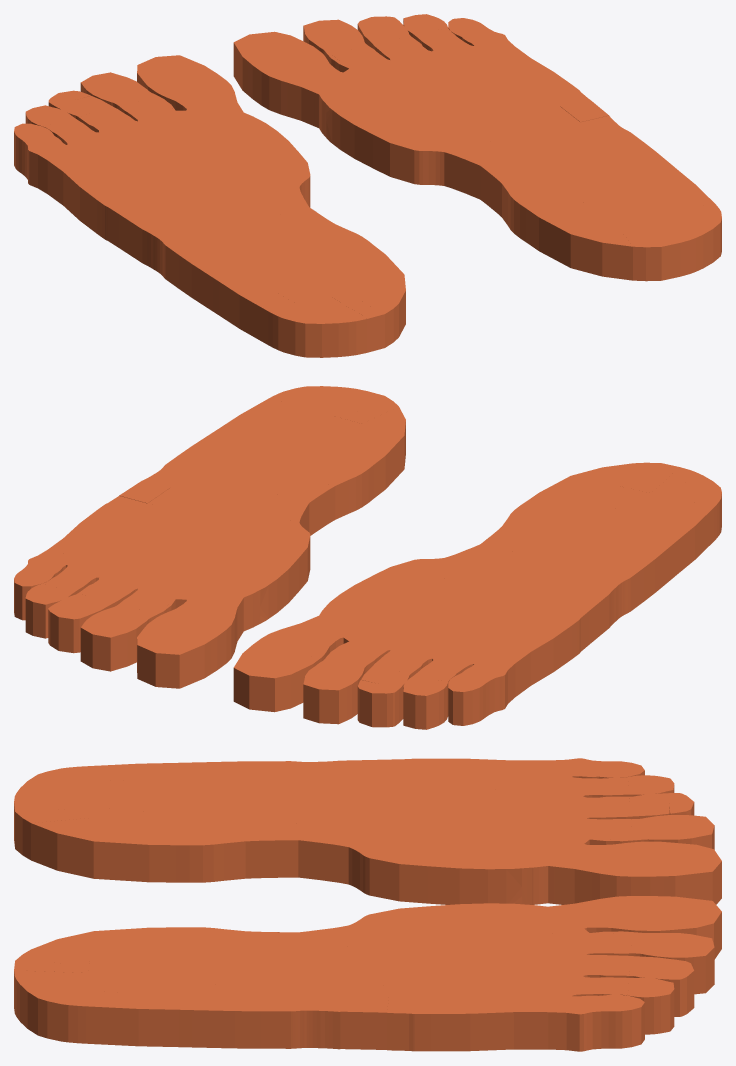
File: Pie.glb
The picture shows the model from 3 angles, top to bottom: view 1: azimuth 30°, elevation 25°; view 2: azimuth 150°, elevation 25°; view 3: azimuth 270°, elevation 25°; orthographic projection. The views are drawn at different scales.
Parts seen in each view (by area): view 1: I05, D41, D01, D55, D83, D34, D06, I12, D05, D76, D90, I33 (+52 smaller); view 2: I96, D96, I89, I95, D55, D97, I99, D90, I98, I33, D83, D99 (+58 smaller); view 3: D05, I55, I41, D89, I01, D33, I06, I13, D12, D19, I27, I34 (+175 smaller).
Boxes of the visible parts, left/top/right/bottom form: I05: left=268, top=299, right=341, bottom=357; D41: left=390, top=129, right=474, bottom=185; D01: left=570, top=224, right=632, bottom=280; D55: left=340, top=105, right=421, bottom=168; D83: left=258, top=55, right=338, bottom=116; D34: left=444, top=145, right=502, bottom=199; D06: left=539, top=211, right=597, bottom=267; I12: left=239, top=287, right=296, bottom=345; D05: left=667, top=203, right=721, bottom=268; D76: left=287, top=71, right=354, bottom=125; D90: left=242, top=43, right=323, bottom=103; I33: left=165, top=238, right=220, bottom=297; I96: left=233, top=653, right=306, bottom=712; D96: left=137, top=628, right=204, bottom=688; I89: left=448, top=668, right=502, bottom=725; I95: left=403, top=675, right=448, bottom=729; D55: left=229, top=548, right=298, bottom=612; D97: left=92, top=622, right=138, bottom=671; I99: left=357, top=680, right=399, bottom=727; D90: left=144, top=615, right=223, bottom=677; I98: left=319, top=673, right=357, bottom=724; I33: left=602, top=552, right=655, bottom=611; D83: left=161, top=602, right=235, bottom=665; D99: left=48, top=604, right=91, bottom=653; D05: left=20, top=981, right=87, bottom=1043; I55: left=427, top=837, right=487, bottom=904; I41: left=347, top=830, right=399, bottom=901; D89: left=584, top=994, right=644, bottom=1051; I01: left=31, top=818, right=93, bottom=878; D33: left=235, top=994, right=290, bottom=1048; I06: left=92, top=827, right=149, bottom=882; I13: left=146, top=829, right=202, bottom=882; D12: left=85, top=990, right=139, bottom=1046; D19: left=138, top=993, right=192, bottom=1047; I27: left=244, top=828, right=298, bottom=878; I34: left=297, top=828, right=348, bottom=884.
Size of what is drawn, in the model's own units: 3.51 by 0.2414 by 4.11.
